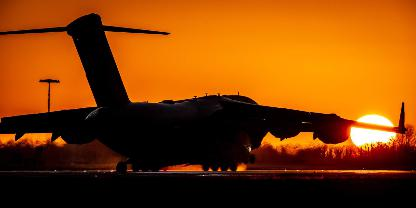C2: (0, 12, 407, 171)
